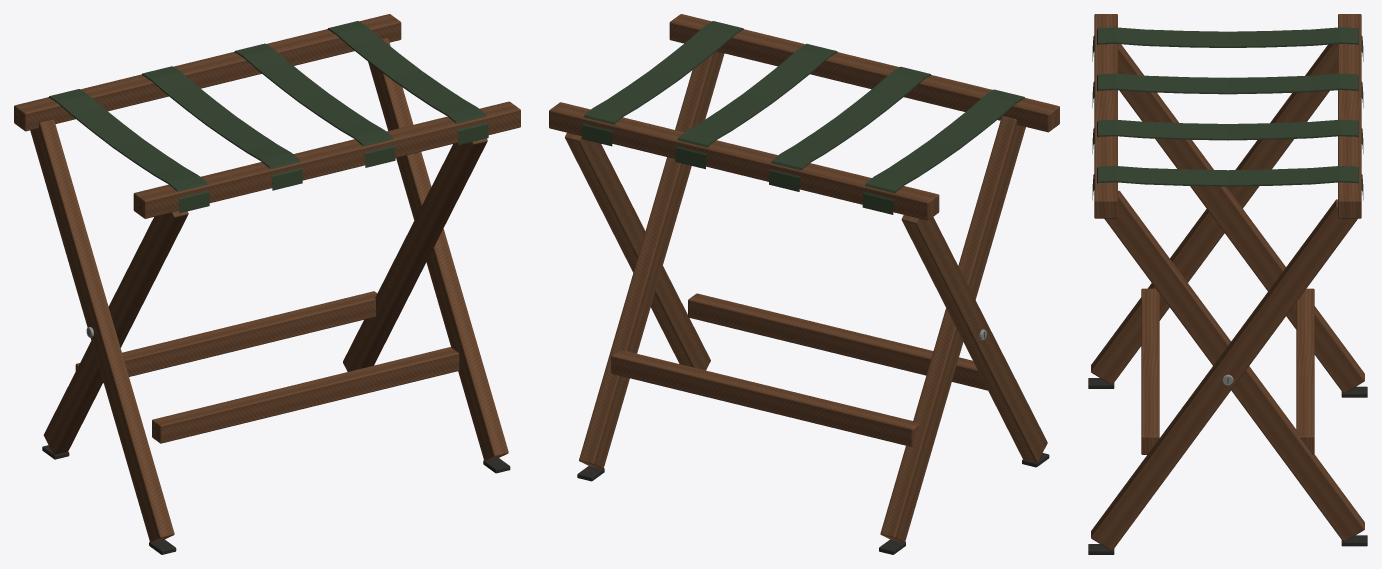
File: mu01_luggage_rack_lod0.glb
3 renders of one model, left to right at view 1: azimuth 30°, elevation 25°; view 2: azimuth 150°, elevation 25°; view 3: azimuth 270°, elevation 25°, orthographic.
Visible parts, largest first — view 1: rack_cross_leg_-1_1, rack_cross_leg_1_1, rack_top_rail_-1, rack_lower_stretcher_-1, rack_cross_leg_1_-1, rack_top_rail_1, rack_cross_leg_-1_-1, rack_lower_stretcher_1, rack_woven_strap_1, rack_woven_strap_3, rack_woven_strap_4, rack_woven_strap_2; view 2: rack_cross_leg_-1_-1, rack_cross_leg_1_-1, rack_top_rail_1, rack_lower_stretcher_1, rack_cross_leg_-1_1, rack_top_rail_-1, rack_lower_stretcher_-1, rack_cross_leg_1_1, rack_woven_strap_3, rack_woven_strap_4, rack_woven_strap_2, rack_woven_strap_1; view 3: rack_cross_leg_1_1, rack_cross_leg_1_-1, rack_cross_leg_-1_-1, rack_cross_leg_-1_1, rack_woven_strap_2, rack_woven_strap_3, rack_woven_strap_4, rack_woven_strap_1, rack_top_rail_-1, rack_top_rail_1, rack_lower_stretcher_-1, rack_lower_stretcher_1.
Part boxes in pixels (<box>): rack_cross_leg_-1_1: <box>30,119,174,542</box>; rack_cross_leg_1_1: <box>368,38,508,461</box>; rack_top_rail_-1: <box>133,101,520,218</box>; rack_lower_stretcher_-1: <box>152,347,459,443</box>; rack_cross_leg_1_-1: <box>343,138,487,371</box>; rack_top_rail_1: <box>14,14,401,131</box>; rack_cross_leg_-1_-1: <box>43,211,188,454</box>; rack_lower_stretcher_1: <box>75,291,377,383</box>; rack_woven_strap_1: <box>48,89,209,213</box>; rack_woven_strap_3: <box>234,43,395,167</box>; rack_woven_strap_4: <box>327,21,488,145</box>; rack_woven_strap_2: <box>141,66,302,190</box>; rack_cross_leg_-1_-1: <box>880,116,1025,542</box>; rack_cross_leg_1_-1: <box>579,51,724,469</box>; rack_top_rail_1: <box>549,102,939,220</box>; rack_lower_stretcher_1: <box>611,350,919,446</box>; rack_cross_leg_-1_1: <box>901,215,1047,462</box>; rack_top_rail_-1: <box>669,14,1059,132</box>; rack_lower_stretcher_-1: <box>688,293,987,390</box>; rack_cross_leg_1_1: <box>565,132,710,370</box>; rack_woven_strap_3: <box>675,43,837,169</box>; rack_woven_strap_4: <box>581,21,743,146</box>; rack_woven_strap_2: <box>769,66,931,191</box>; rack_woven_strap_1: <box>862,89,1024,214</box>; rack_cross_leg_1_1: <box>1091,199,1357,550</box>; rack_cross_leg_1_-1: <box>1104,190,1364,542</box>; rack_cross_leg_-1_-1: <box>1118,44,1364,393</box>; rack_cross_leg_-1_1: <box>1091,44,1337,384</box>; rack_woven_strap_2: <box>1092,73,1363,107</box>; rack_woven_strap_3: <box>1092,119,1363,153</box>; rack_woven_strap_4: <box>1092,166,1363,200</box>; rack_woven_strap_1: <box>1092,27,1363,61</box>; rack_top_rail_-1: <box>1094,14,1117,218</box>; rack_top_rail_1: <box>1338,14,1361,218</box>; rack_lower_stretcher_-1: <box>1141,288,1159,454</box>; rack_lower_stretcher_1: <box>1296,288,1314,454</box>.
Size of the model in its own units: 0.5588 by 0.508 by 0.353.
4 materials, 4 textured.
